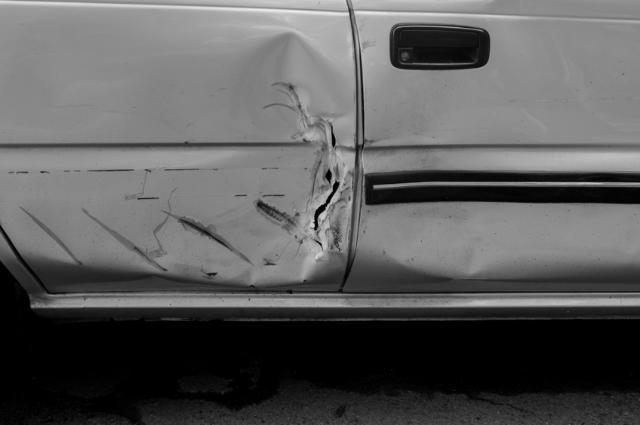Door: (2, 3, 353, 295)
